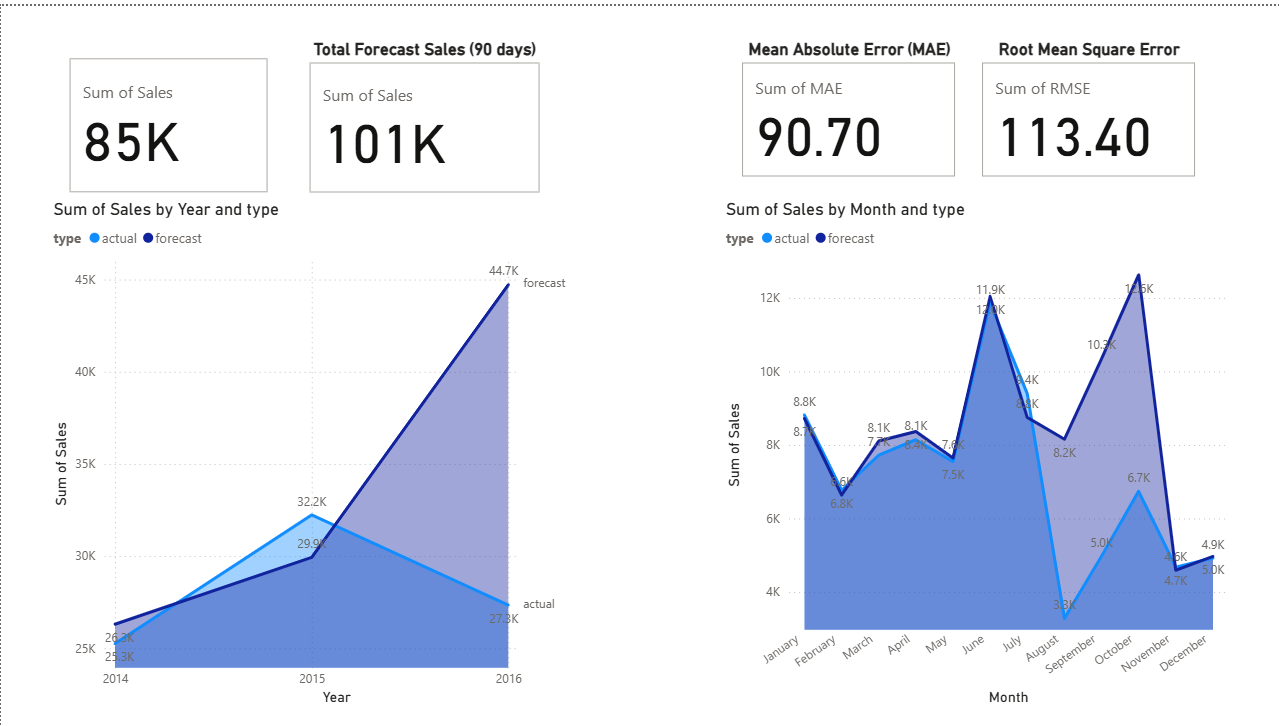

Layout of this report page (visuals, bound fields, positions):
{"tool":"powerbi","page":{"name":"FUTURE_ML_01","canvas":[1280,720],"ordinal":0},"visuals":[{"type":"lineChart","fields":{"Category":["sales_actual_forecast.ds.Variation.Date Hierarchy.Year","sales_actual_forecast.ds.Variation.Date Hierarchy.Quarter","sales_actual_forecast.ds.Variation.Date Hierarchy.Month","sales_actual_forecast.ds.Variation.Date Hierarchy.Day"],"Y":["Sum(sales_actual_forecast.y)"],"Series":["sales_actual_forecast.type"]},"box":[48,192,528,512],"z":0},{"type":"cardVisual","title":"Total Actual Sales","fields":{"Data":["Sum(sales_actual_forecast.y)"]},"box":[64,48,208,144],"z":1},{"type":"cardVisual","title":"Total Forecast Sales (90 days)","fields":{"Data":["Sum(sales_actual_forecast.y)"]},"box":[304,32,240,160],"z":2},{"type":"cardVisual","title":"Mean Absolute Error (MAE)","fields":{"Data":["Sum(metrics.MAE)"]},"box":[736,32,224,144],"z":3},{"type":"cardVisual","title":"Root Mean Square Error","fields":{"Data":["Sum(metrics.RMSE)"]},"box":[976,32,224,144],"z":4},{"type":"lineChart","fields":{"Category":["sales_actual_forecast.ds.Variation.Date Hierarchy.Month"],"Y":["Sum(sales_actual_forecast.y)"],"Series":["sales_actual_forecast.type"]},"box":[720,192,512,512],"z":5}]}

Visuals, with their boxes in screenshot pixels (x1, y1, x2, y2), scaled from the page's 1280x720 canvas onto the 1279x726 screenshot:
lineChart - sales_actual_forecast.ds.Variation.Date Hierarchy.Year x sales_actual_forecast.ds.Variation.Date Hierarchy.Quarter: bbox(48, 194, 576, 710)
"Total Actual Sales" cardVisual: bbox(64, 48, 272, 194)
"Total Forecast Sales (90 days)" cardVisual: bbox(304, 32, 544, 194)
"Mean Absolute Error (MAE)" cardVisual: bbox(735, 32, 959, 177)
"Root Mean Square Error" cardVisual: bbox(975, 32, 1199, 177)
lineChart - sales_actual_forecast.ds.Variation.Date Hierarchy.Month x Sum(sales_actual_forecast.y): bbox(719, 194, 1231, 710)
